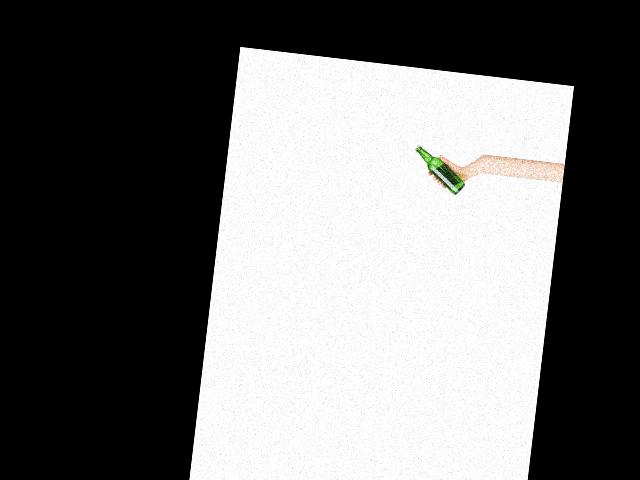beer: (411, 144, 470, 195)
